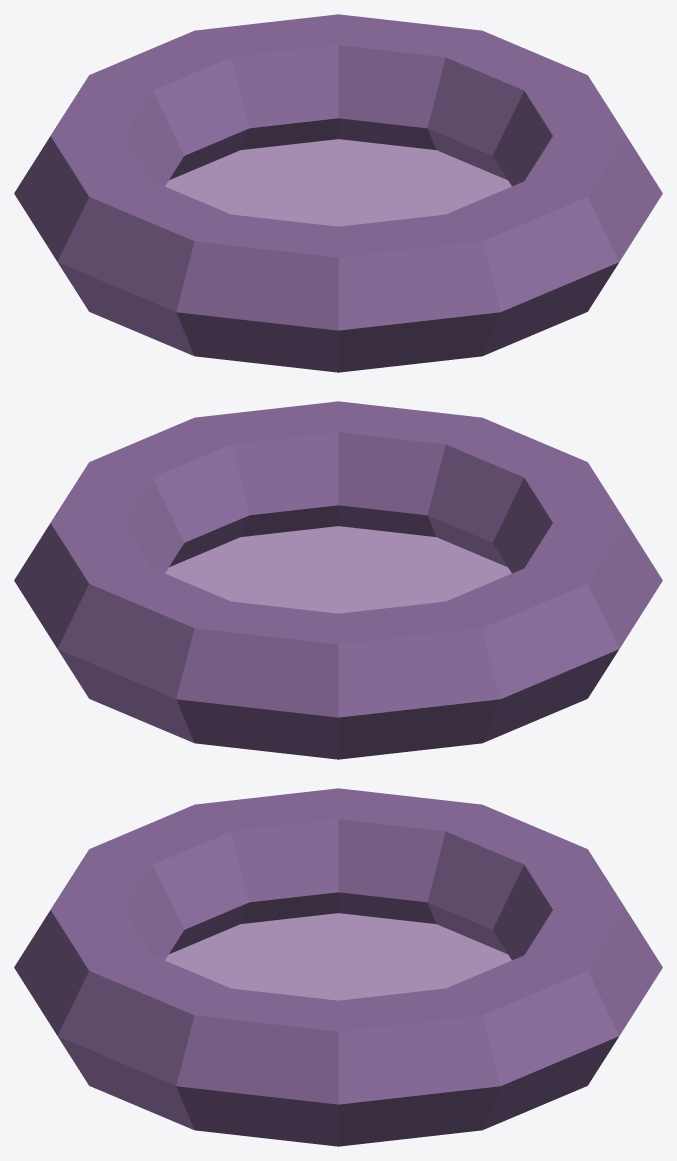
The model's file is catBed.fbx.
The picture shows the model from 3 angles, top to bottom: view 1: azimuth 30°, elevation 25°; view 2: azimuth 150°, elevation 25°; view 3: azimuth 270°, elevation 25°; orthographic projection.
Visible parts, largest first — view 1: catBed; view 2: catBed; view 3: catBed.
Part boxes in pixels (left/top/right/bottom): catBed: left=14, top=14, right=662, bottom=372; catBed: left=14, top=401, right=662, bottom=759; catBed: left=14, top=788, right=662, bottom=1146.
Bounding box in the file's own units: 2.48 × 0.5225 × 2.48.
